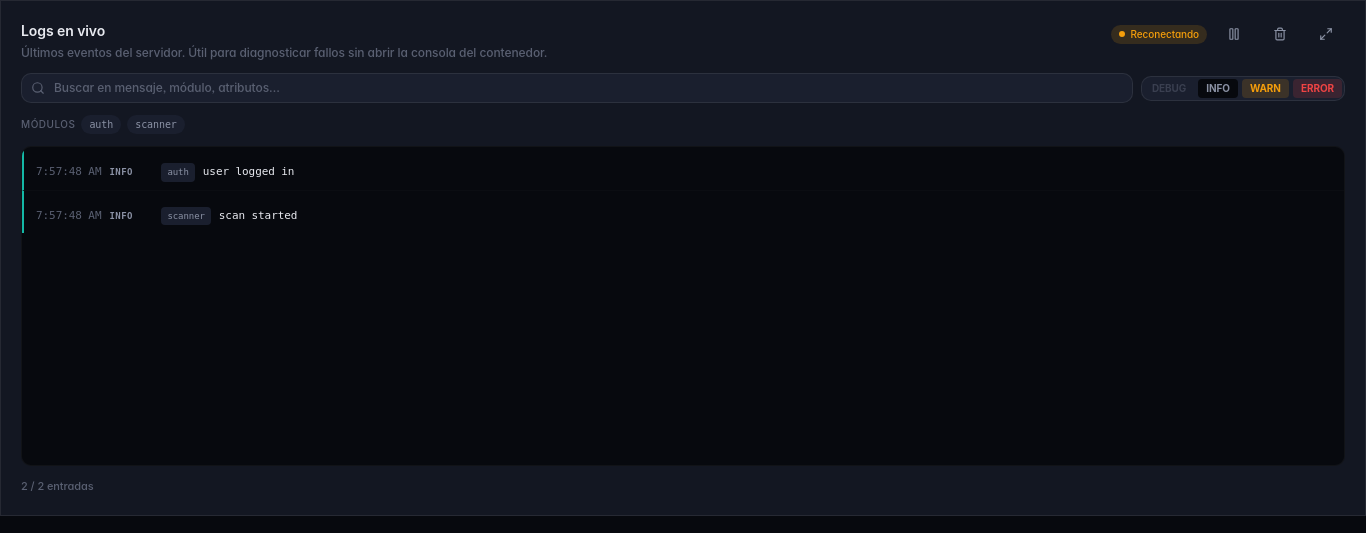
LogsPanel pause / drain › clicking a module chip filters entries to that module
Step 1. Click the button "auth" next to "Módulos" → [101, 124], box [81,115,121,134]
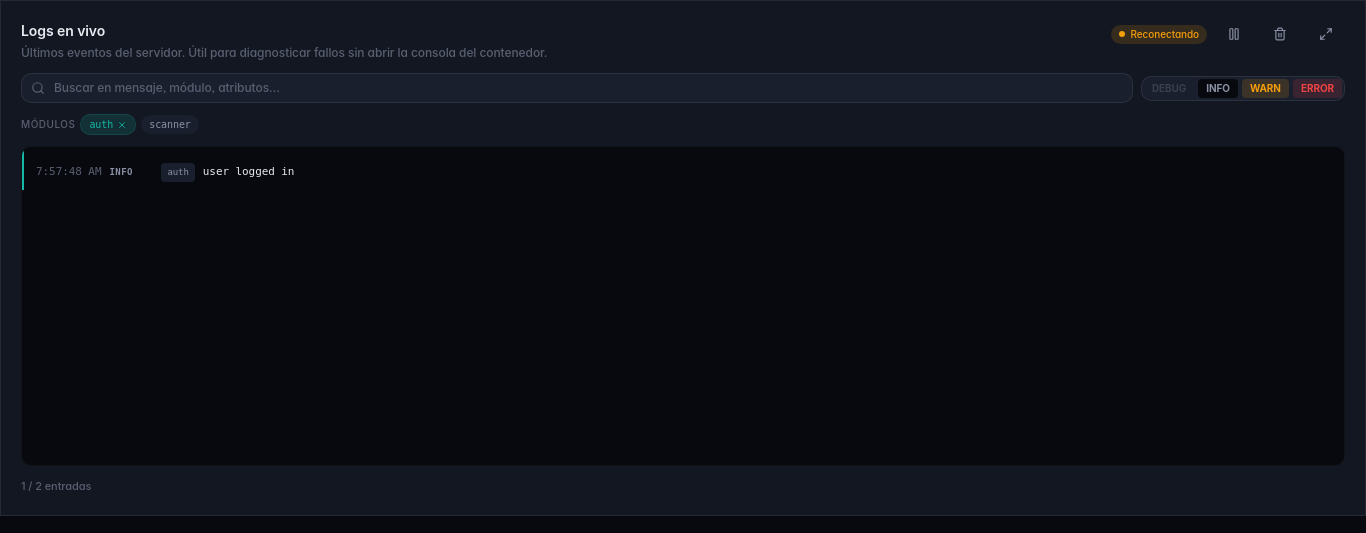
Check: the text "user logged in" is shown, box [203,165,294,178]
Check: the button "scan started" is gone
